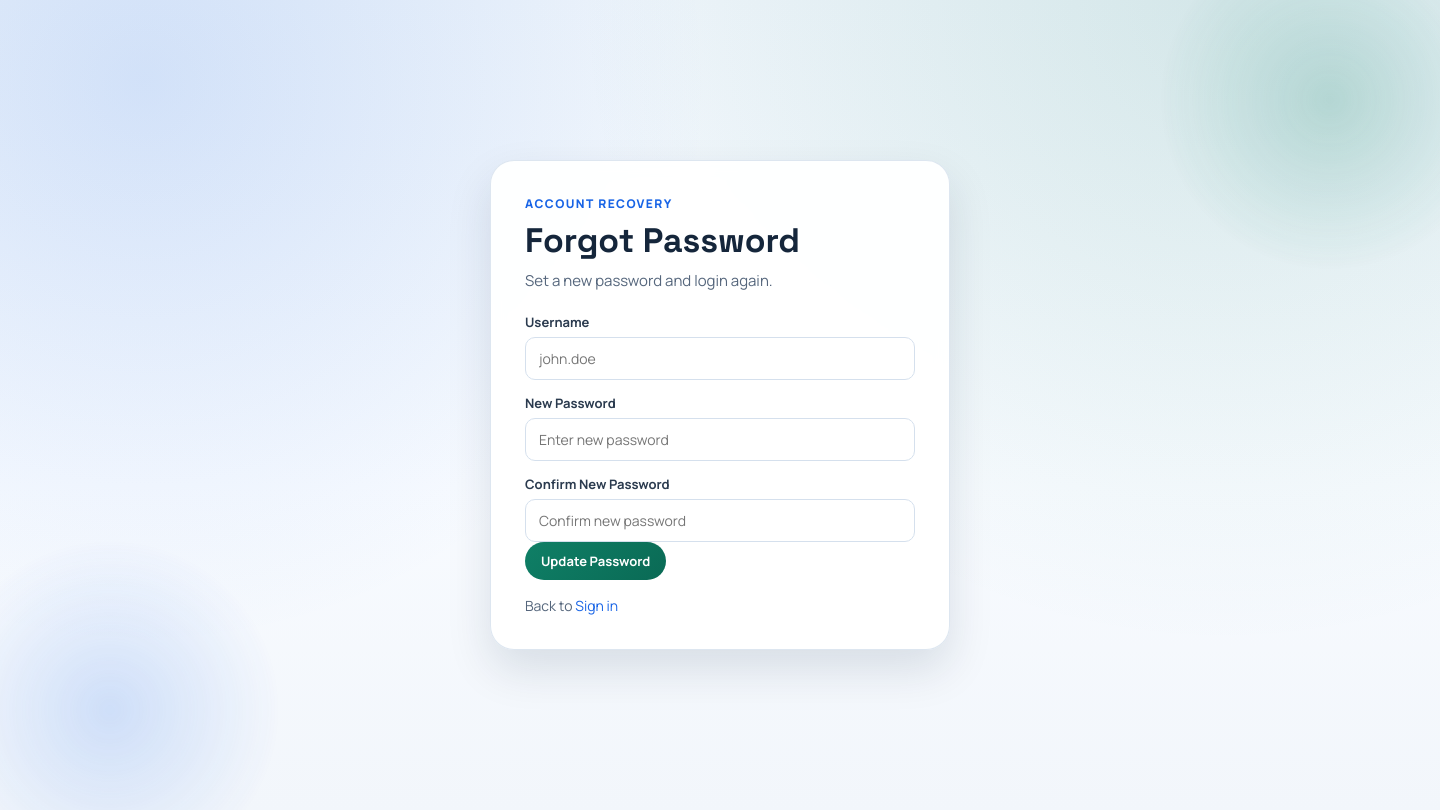
Scenario: submits forgot password request
Type "jane" into the field labelled "Username". click: coordinates (720, 358)
box: [525, 337, 915, 380]
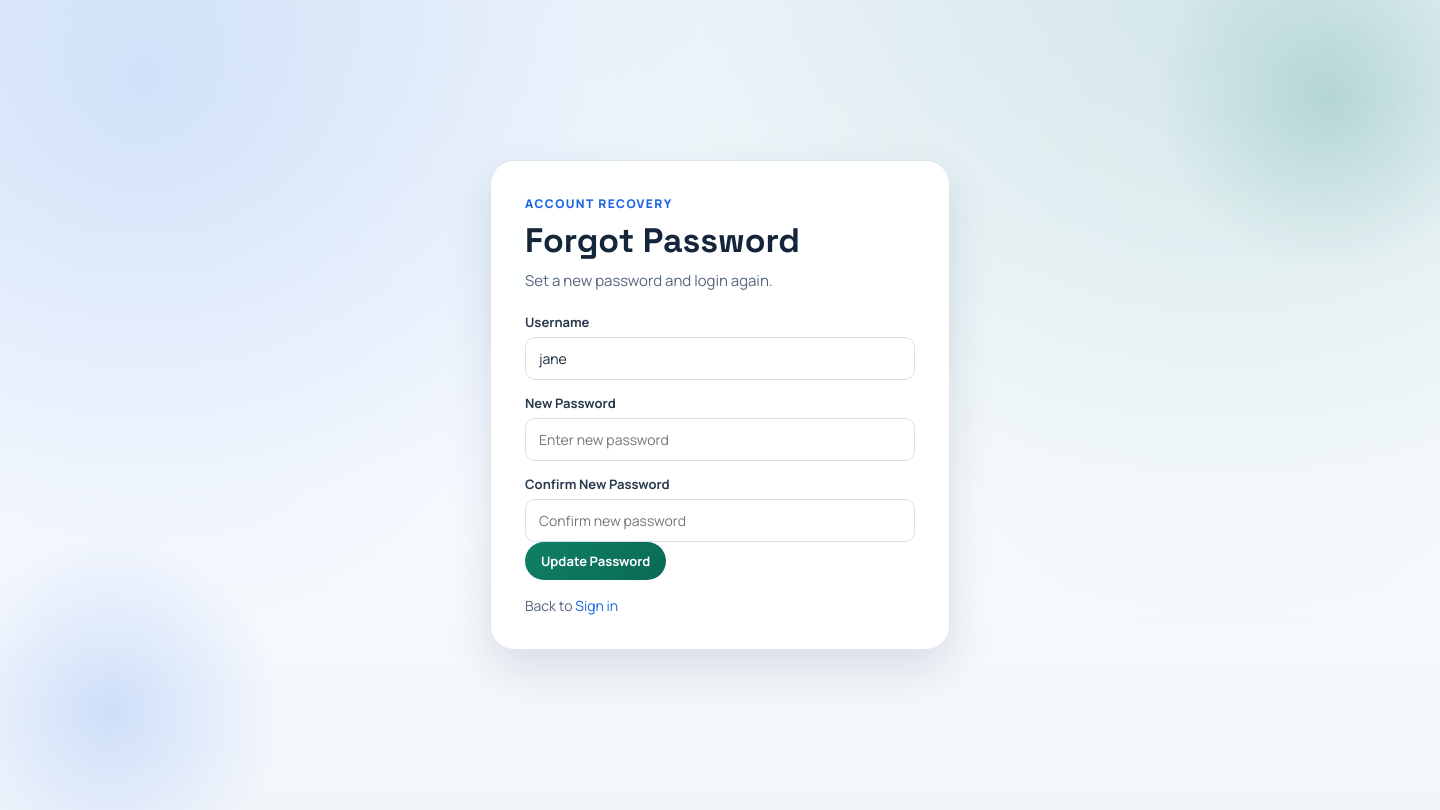
Type "newpass1" into the password field labelled "New Password". click: coordinates (720, 439)
box: [525, 418, 915, 461]
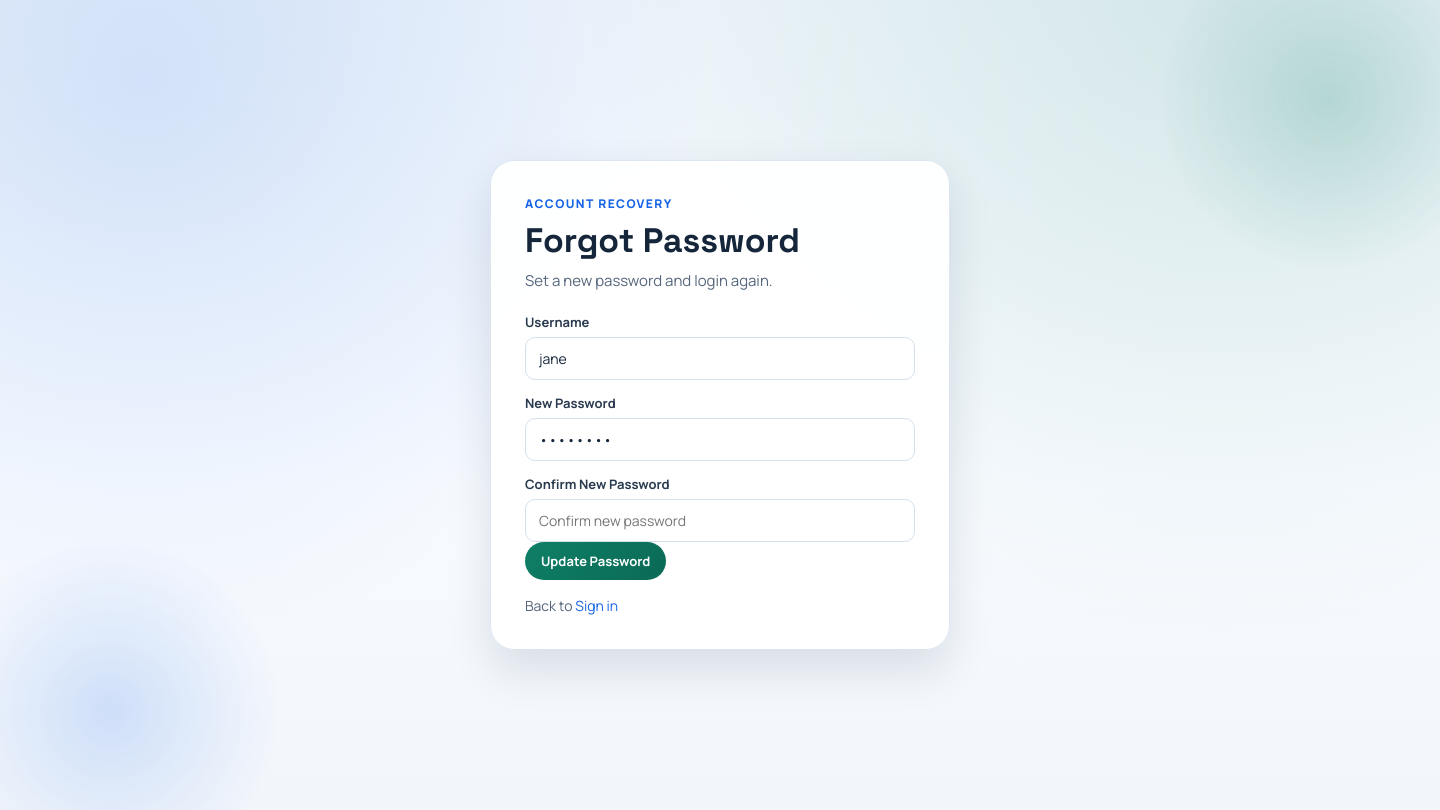
Type "newpass1" into the password field labelled "Confirm New Password". click: coordinates (720, 520)
box: [525, 499, 915, 542]
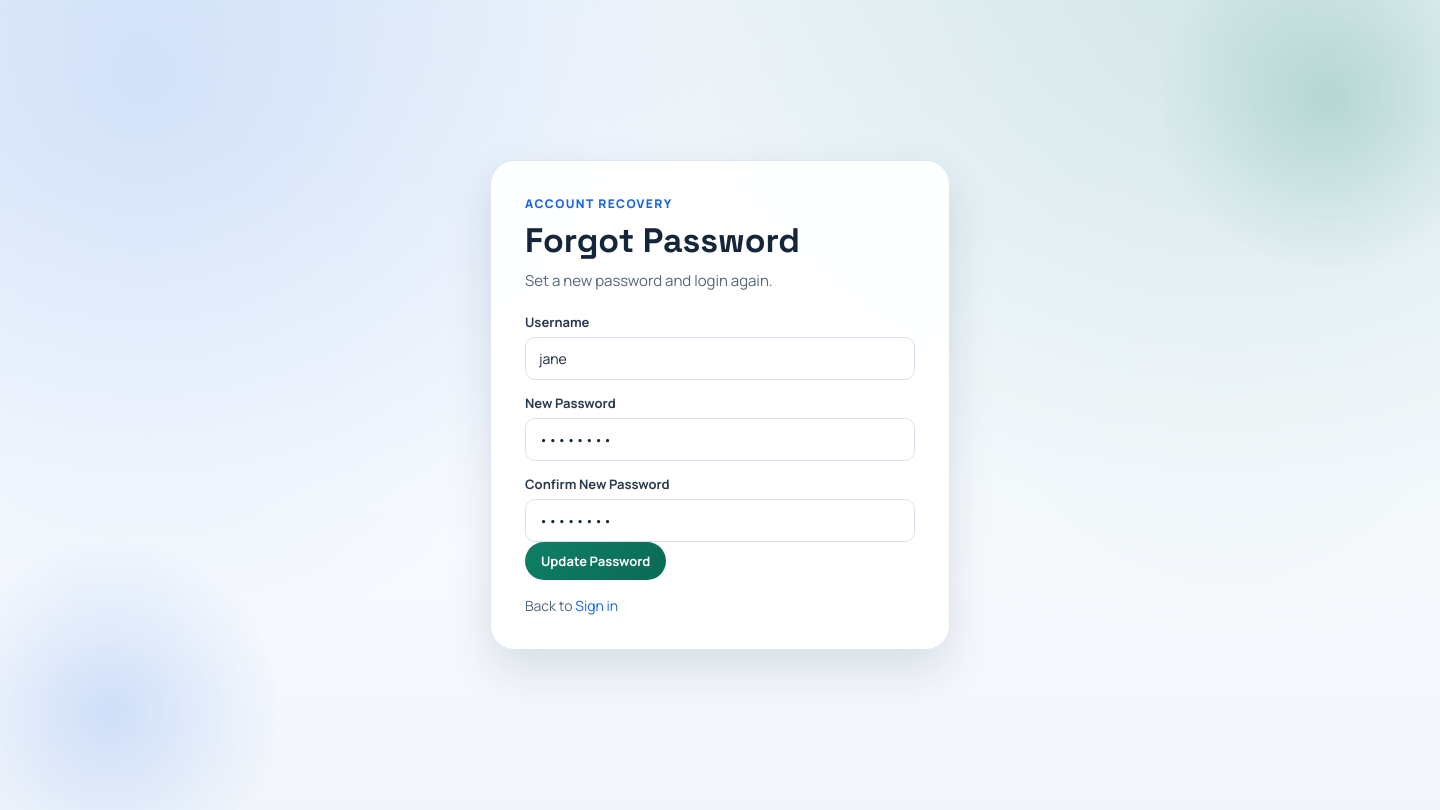
Click the button "Update Password". click: coordinates (596, 561)
box: [525, 542, 666, 580]
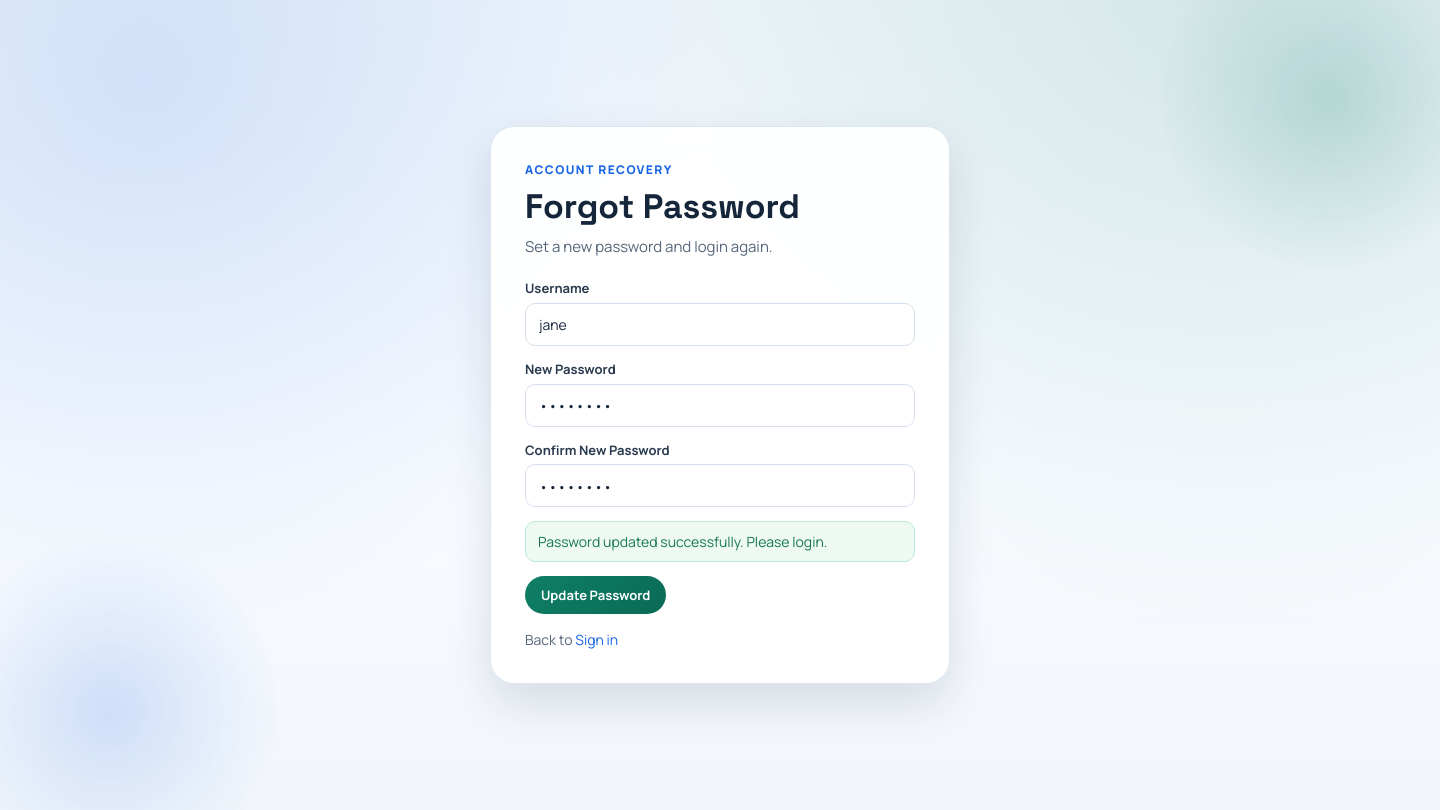
Now the text "Password updated successfully. Please login." is shown, box [525, 521, 915, 562]
